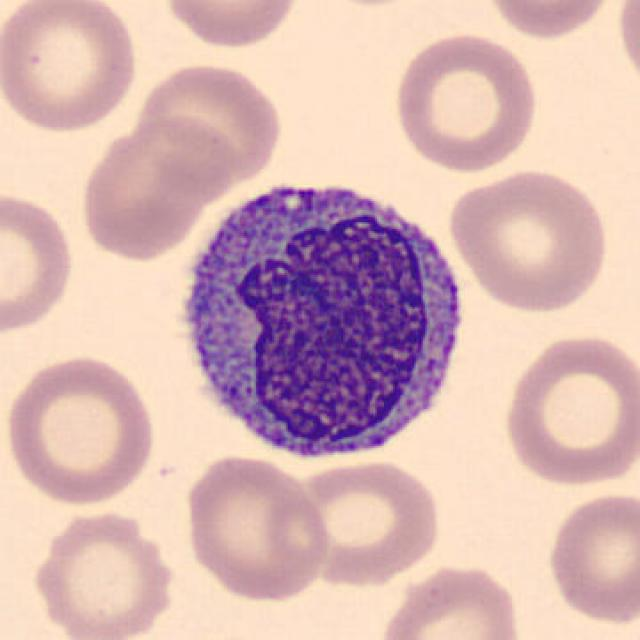Monocyte: (164, 162, 476, 473)
RBC: (442, 166, 612, 316), (0, 351, 160, 508), (73, 109, 229, 263), (180, 451, 332, 605), (498, 330, 638, 492), (390, 28, 542, 175), (25, 504, 181, 640), (284, 457, 444, 587), (129, 63, 282, 198), (0, 0, 144, 136), (542, 488, 638, 628), (375, 560, 526, 640), (0, 187, 78, 337), (130, 109, 242, 201), (156, 0, 306, 51), (478, 0, 620, 42), (613, 0, 640, 99)
